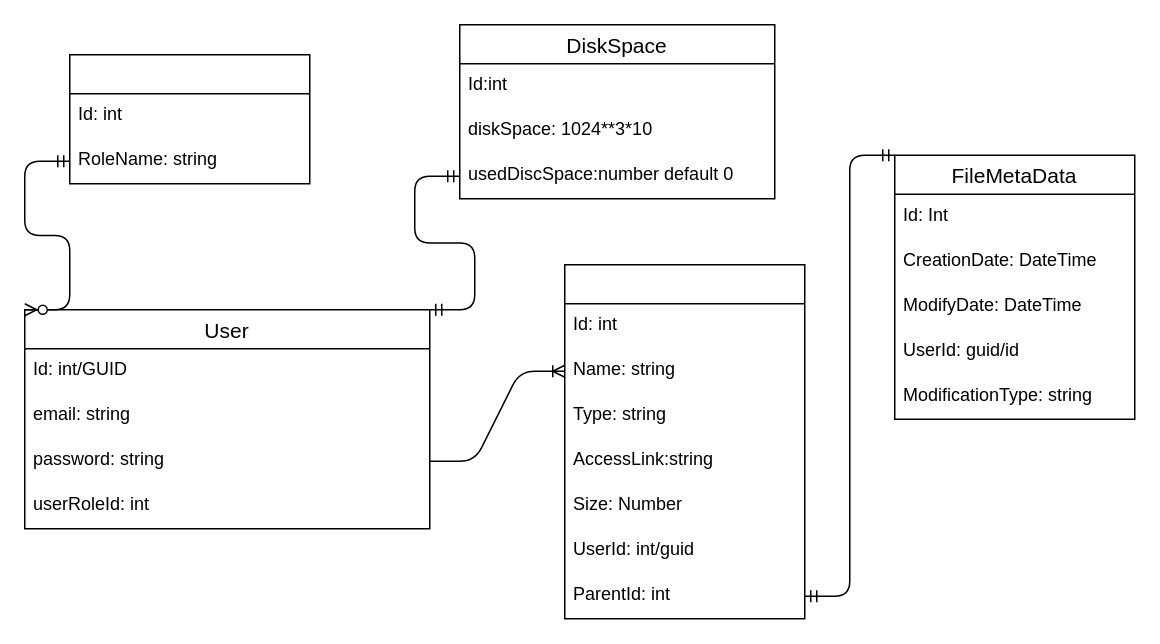
The diagram is 1160 pixels wide and 644 high, and some of its shapes have lost their labels. The shapes that lost their labels are listed below. From the top down, each one's box as (x1, y1, x2, y2) in pixels, then its label:
(68, 53, 310, 184): Roles
(563, 263, 805, 619): File
